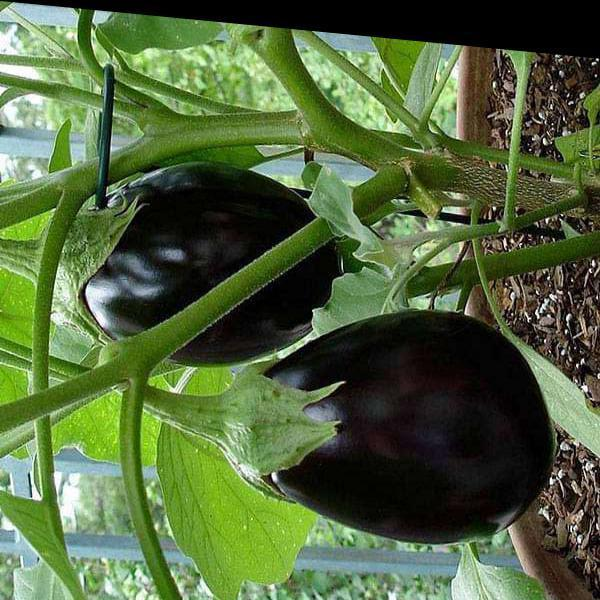eggplant: (131, 265, 568, 558), (0, 111, 362, 392)
